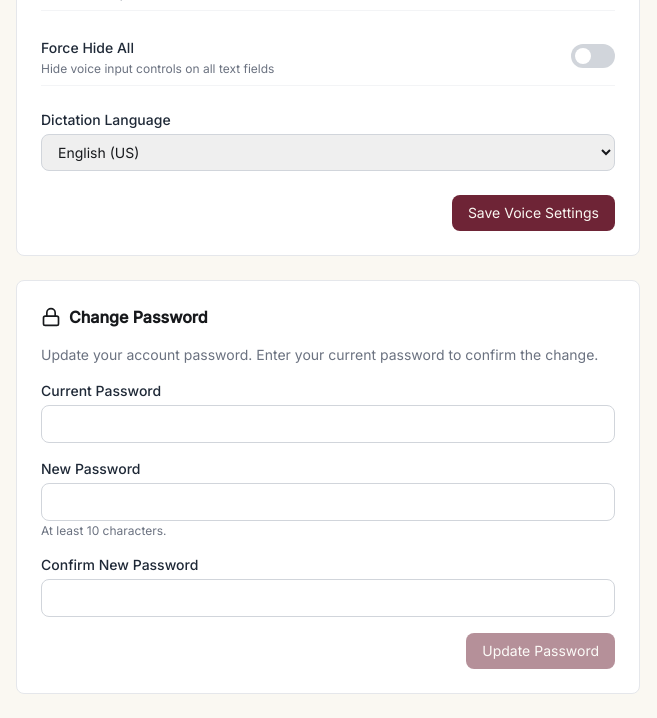
Test: SettingsPage — FOLD-AUTH-CHANGEPW change-password form › blocks submit when the new password equals the current password
The width and height of the screenshot is (657, 718).
(page scrolled)
Type "samepassword1" into the password field labelled "Current Password".
click(328, 424); type("samepassword1")  # box [41,405,615,443]
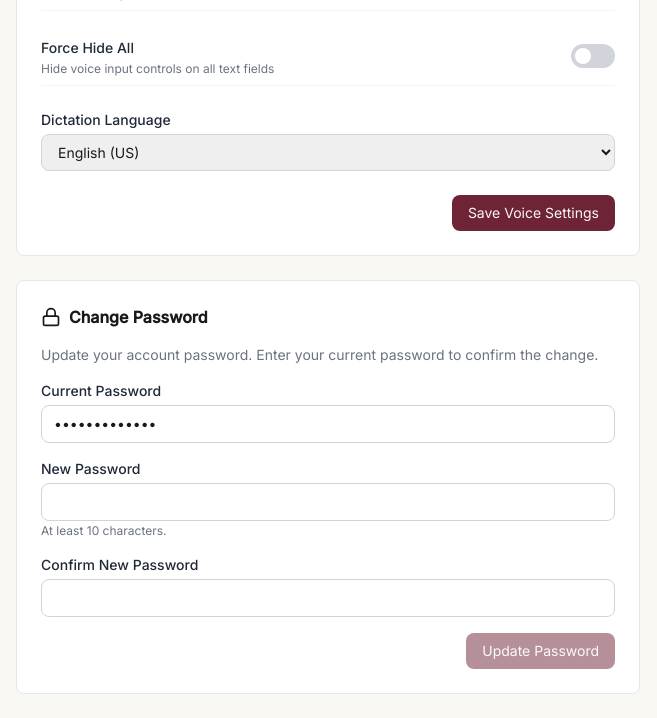
Type "samepassword1" into the password field labelled "New Password".
click(328, 502); type("samepassword1")  # box [41,483,615,521]
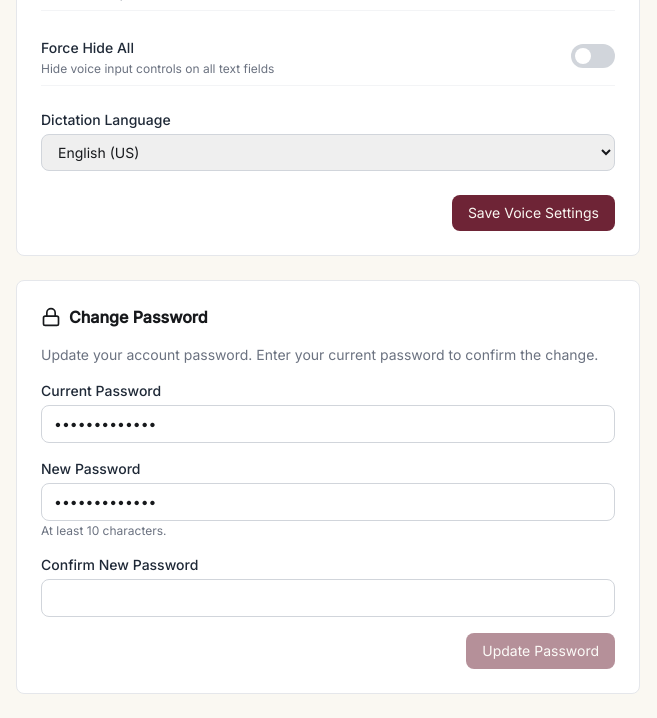
Type "samepassword1" into the password field labelled "Confirm New Password".
click(328, 598); type("samepassword1")  # box [41,579,615,617]
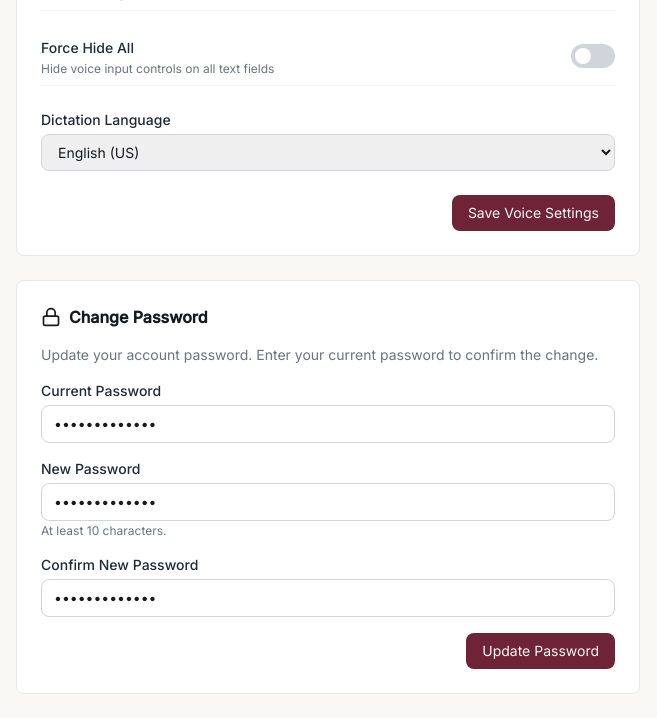
Click the button "Update Password".
click(541, 651)  # box [466,633,615,669]
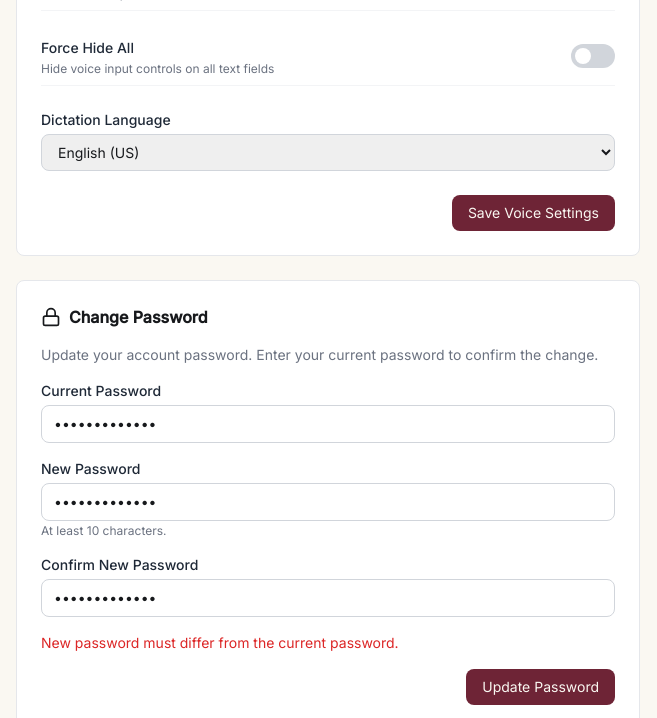
Now the text "New password must differ from the current password." is shown, box [41,634,399,651]
